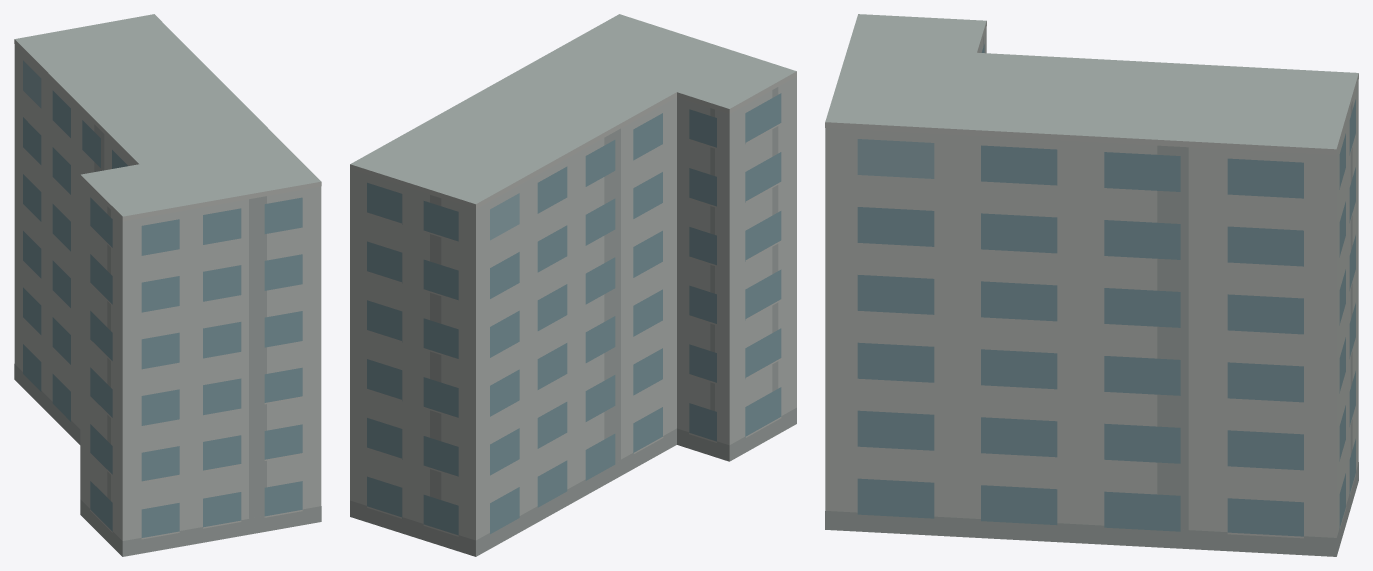
Rendered from survey-upis-32567219.glb.
The picture shows the model from 3 angles, left to right: view 1: azimuth 30°, elevation 25°; view 2: azimuth 150°, elevation 25°; view 3: azimuth 270°, elevation 25°; orthographic projection. The views are drawn at different scales.
Parts seen in each view (by area): view 1: survey-upis-32567219.tmp; view 2: survey-upis-32567219.tmp; view 3: survey-upis-32567219.tmp.
Part boxes in pixels (<box>): survey-upis-32567219.tmp: <box>14,14,321,556</box>; survey-upis-32567219.tmp: <box>350,14,796,556</box>; survey-upis-32567219.tmp: <box>825,14,1358,556</box>.
Bounding box in the file's own units: 12.11 × 17 × 20.18.
